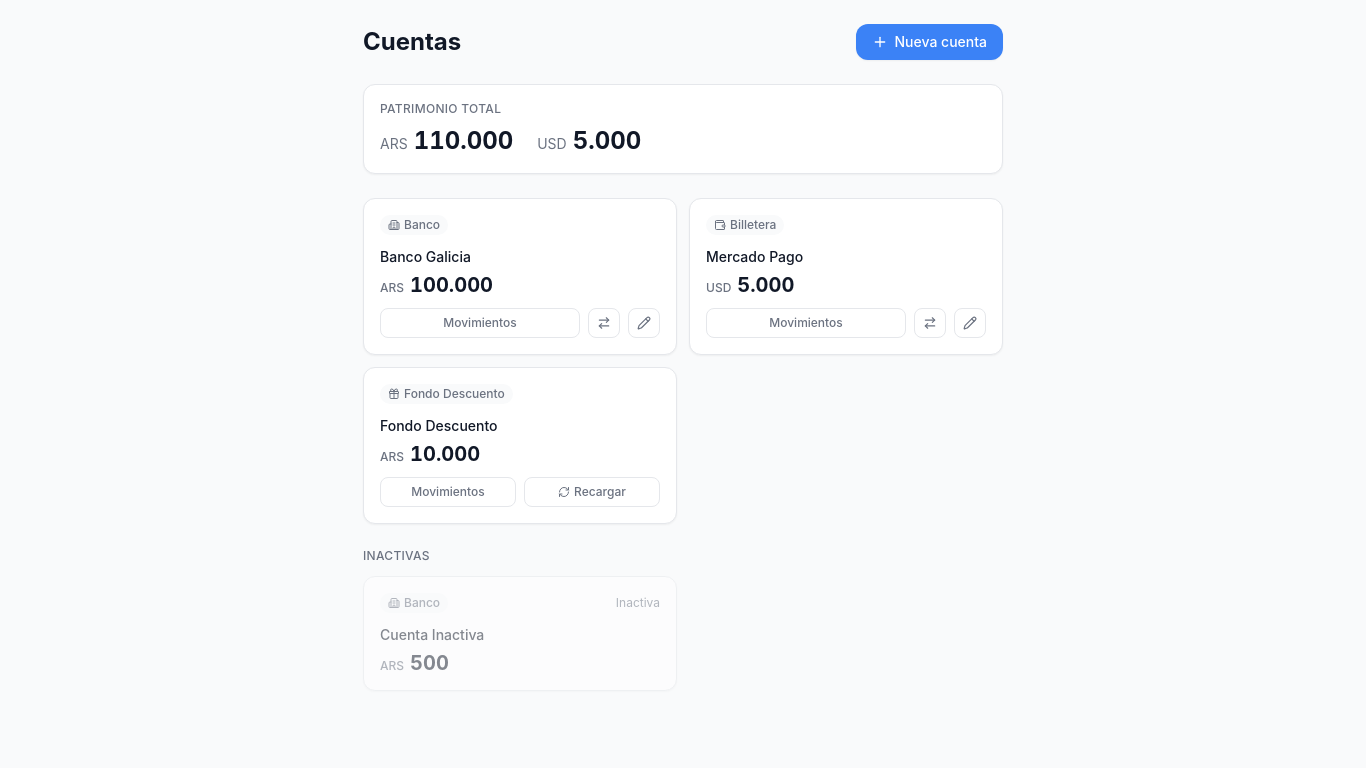
Test: Accounts › nueva cuenta form › opens form on nueva cuenta click
The width and height of the screenshot is (1366, 768).
Click the button "Nueva cuenta" at (930, 42), box [856,24,1003,60]
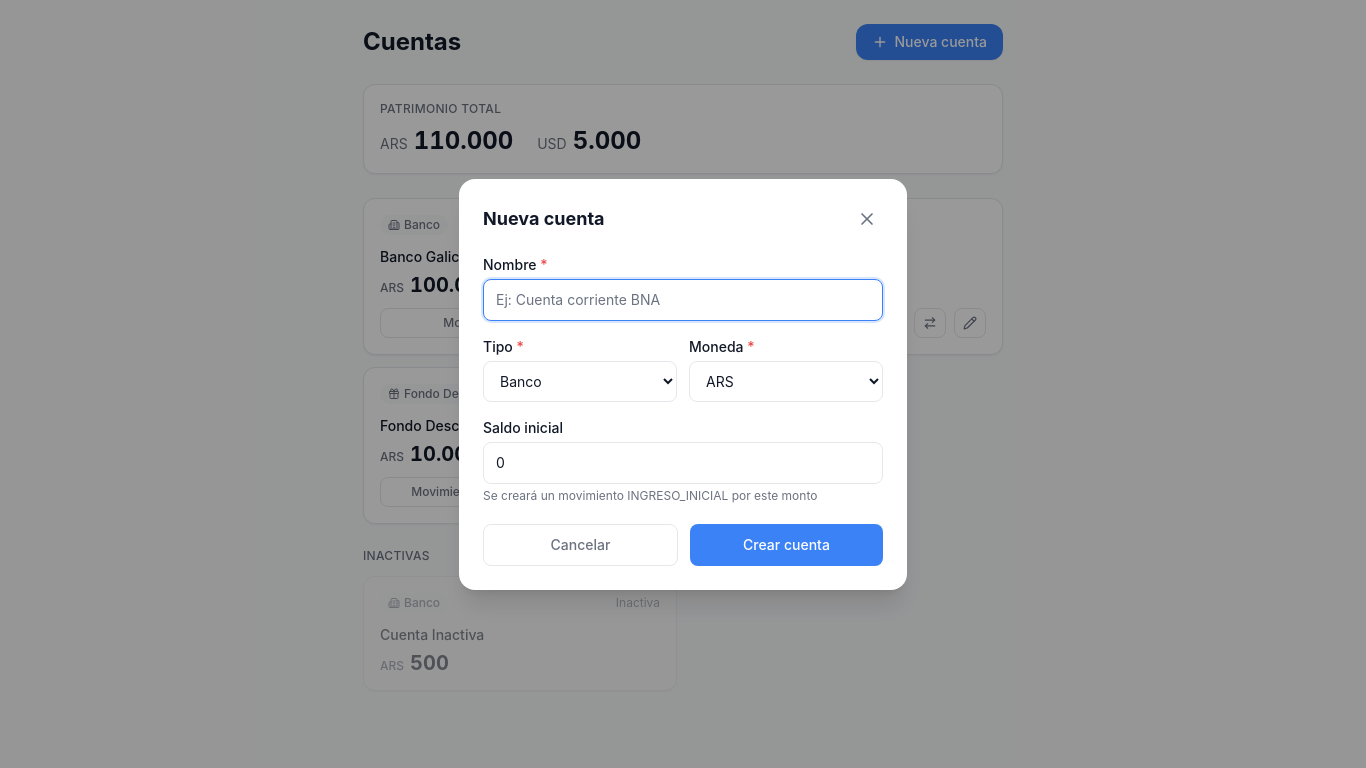
Result: the heading "Nueva cuenta" is shown at [483,204,604,232]
